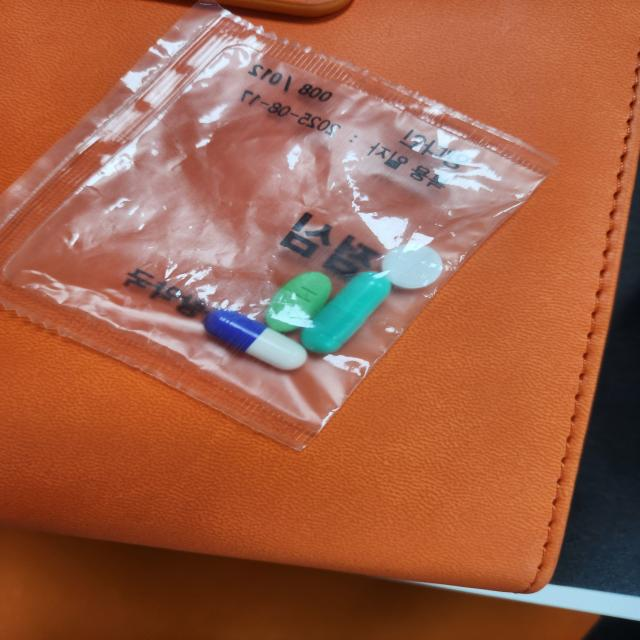러키펜정: (382, 241, 446, 292)
씨엠지세파클러캡슐: (203, 309, 308, 373)
에르도캡슐: (302, 273, 393, 357)
휴티렌정: (264, 272, 334, 331)
